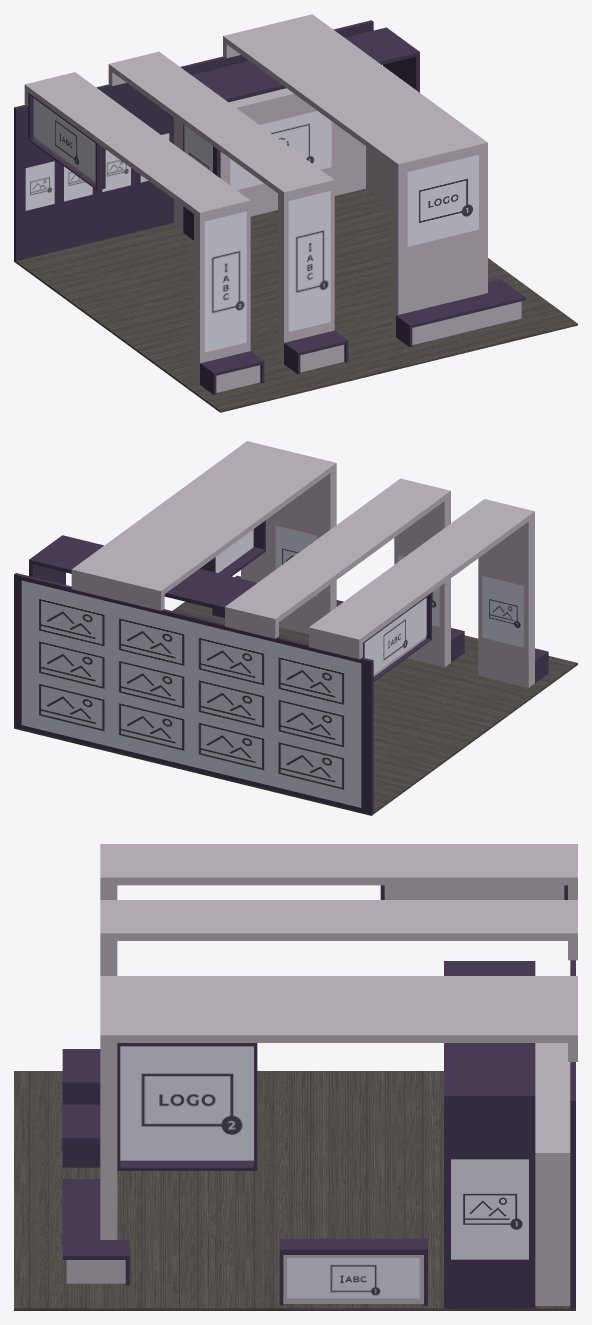
Rendered from stant76.gltf.
3 renders of one model, top to bottom at view 1: azimuth 30°, elevation 25°; view 2: azimuth 150°, elevation 25°; view 3: azimuth 270°, elevation 25°, orthographic. The views are drawn at different scales.
Parts seen in each view (by area): view 1: modrenk1, modahsap, modrenk2, moddikyazi1, moddikyazi2, modlogo1, modvideo1, modyazi2, moddikgorsel3, moddikgorsel5, moddikgorsel2, moddikgorsel4; view 2: modrenk1, modgenisgorsel, modahsap, modrenk2, moddikgorsel7, modyazi2, moddikgorsel9, modlogo3; view 3: modrenk1, modahsap, modrenk2, modlogo2, moddikgorsel1, modyazi1.
Part boxes in pixels (x1,y1,x2,y2): modrenk1: [24, 14, 521, 392]; modahsap: [14, 188, 577, 412]; modrenk2: [14, 20, 525, 394]; moddikyazi1: [288, 191, 330, 331]; moddikyazi2: [204, 211, 246, 352]; modlogo1: [407, 155, 478, 246]; modvideo1: [230, 111, 331, 190]; modyazi2: [33, 98, 95, 181]; moddikgorsel3: [25, 161, 54, 210]; moddikgorsel5: [102, 149, 130, 191]; moddikgorsel2: [184, 125, 212, 172]; moddikgorsel4: [64, 166, 92, 201]; modrenk1: [71, 441, 534, 687]; modgenisgorsel: [21, 580, 361, 807]; modahsap: [14, 601, 577, 815]; modrenk2: [14, 520, 548, 813]; moddikgorsel7: [482, 576, 523, 647]; modyazi2: [364, 597, 426, 674]; moddikgorsel9: [275, 525, 317, 596]; modlogo3: [215, 529, 253, 572]; modrenk1: [66, 844, 577, 1305]; modahsap: [14, 1071, 575, 1310]; modrenk2: [62, 885, 575, 1308]; modlogo2: [120, 1046, 253, 1160]; moddikgorsel1: [451, 1159, 528, 1259]; modyazi1: [287, 1258, 419, 1298].
Size of what is drawn, in the model's own units: 1 by 0.465 by 1.
Materials: 21 (19 with a texture image).
